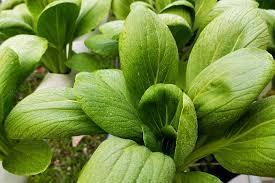Healthy-Pechay: (11, 7, 272, 177), (73, 0, 113, 38), (190, 1, 223, 34), (25, 0, 53, 26)
